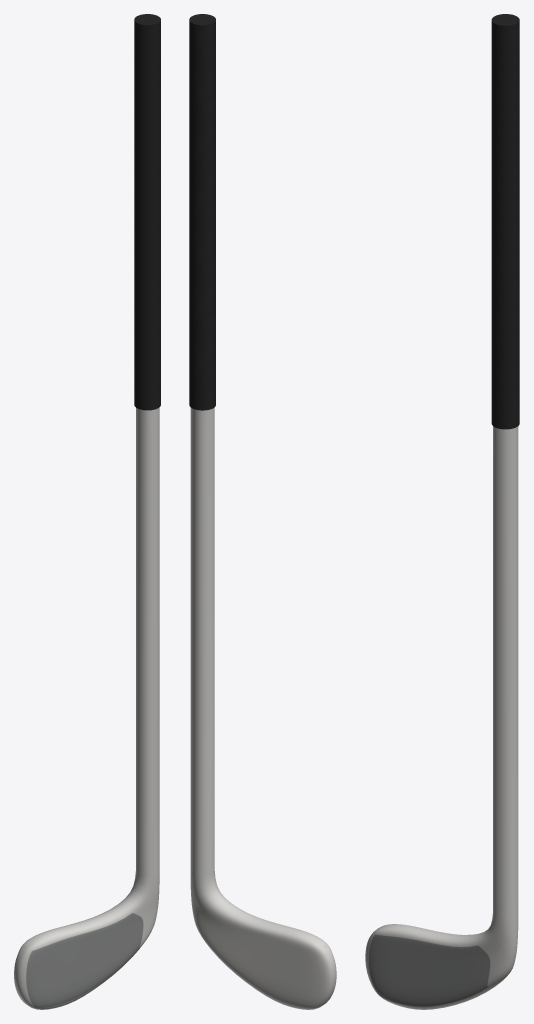
The model's file is golf_club.glb.
3 views of the same model, side by side, from view 1: azimuth 30°, elevation 25°; view 2: azimuth 150°, elevation 25°; view 3: azimuth 330°, elevation 25° (orthographic). The views are drawn at different scales.
Parts seen in each view (by area): view 1: golf_club.002; view 2: golf_club.002; view 3: golf_club.002.
Part boxes in pixels (<box>): golf_club.002: <box>14,14,160,1009</box>; golf_club.002: <box>189,14,336,1009</box>; golf_club.002: <box>365,14,519,1009</box>.
Bounding box in the file's own units: 0.2731 × 1.75 × 0.044.
Materials: 1 (1 with a texture image).
